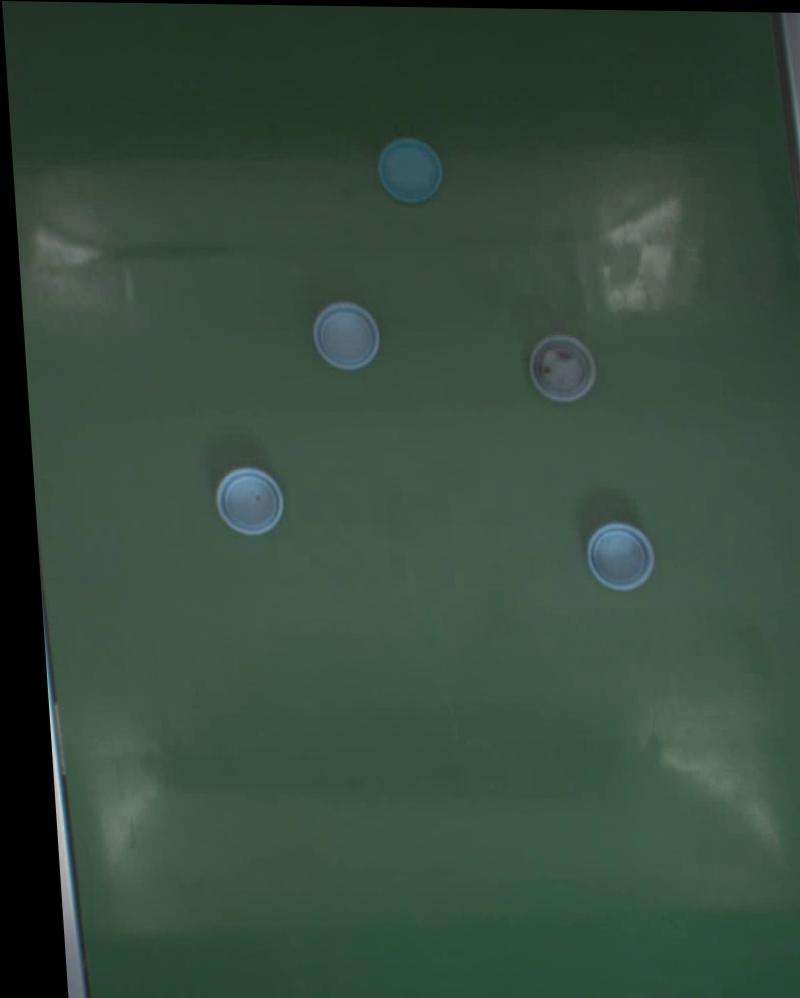light_blue: (213, 464, 286, 535), (310, 301, 381, 371), (584, 520, 655, 590), (526, 331, 597, 401), (376, 136, 447, 203)
